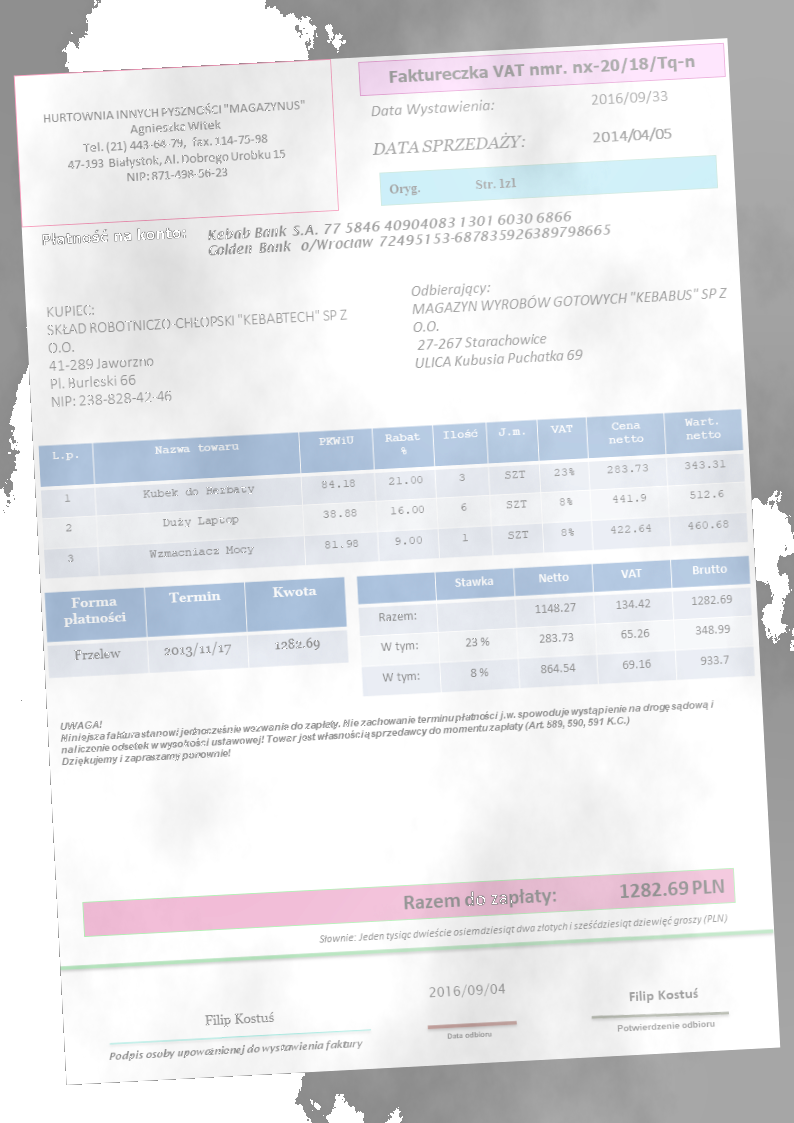Table: (37, 405, 750, 582), (354, 553, 757, 700), (43, 576, 349, 680)
TextBox: (55, 682, 719, 770), (42, 285, 354, 414), (408, 265, 735, 375), (37, 96, 311, 191), (203, 205, 614, 261), (313, 907, 729, 947), (400, 871, 728, 916), (383, 51, 698, 89), (105, 1036, 369, 1066), (368, 128, 527, 161), (34, 221, 188, 251), (383, 171, 519, 200), (365, 93, 496, 121), (588, 121, 675, 148), (425, 975, 510, 1002), (614, 1016, 717, 1035), (624, 982, 705, 1005), (587, 87, 670, 109), (200, 1006, 276, 1030), (440, 1025, 497, 1044)
